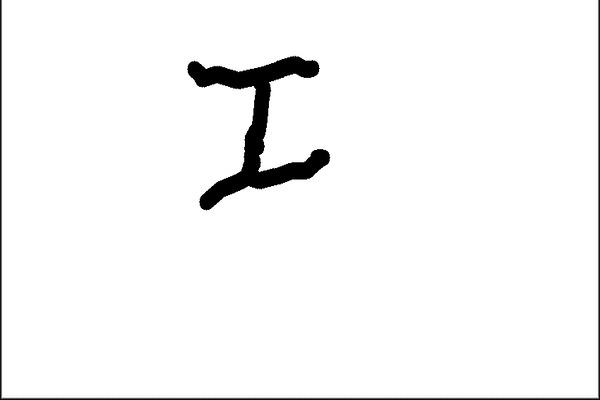i: (174, 52, 337, 212)
